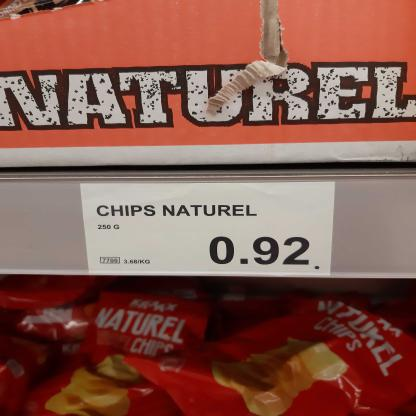prtg: (81, 182, 337, 276)
